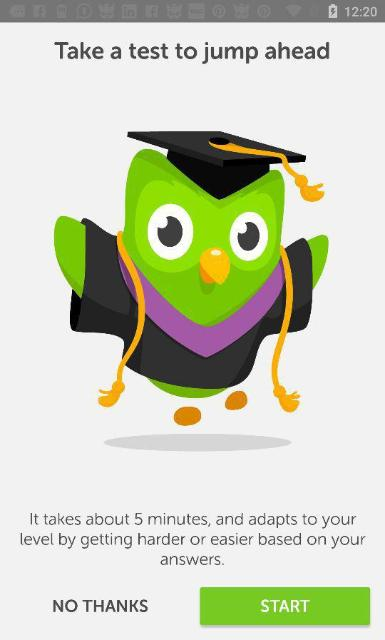Image: (54, 130, 330, 452)
Text: (20, 512, 366, 564), (54, 41, 328, 64), (53, 598, 147, 612), (262, 600, 310, 612)
TextButton: (200, 586, 370, 624)
UpperTaskBar: (0, 0, 384, 22)
